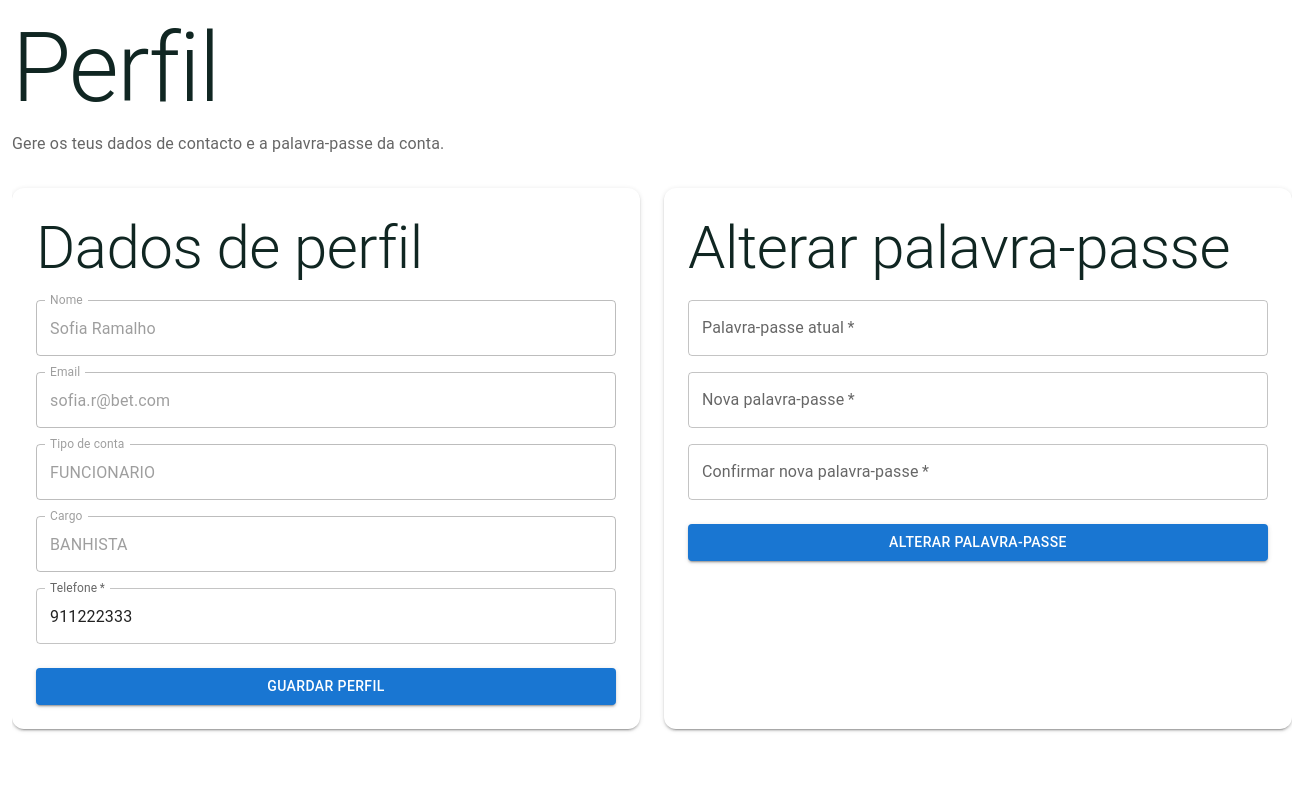
Test: Perfil page › mostra erro ao alterar password com password atual errada
This screenshot has width=1292, height=812.
Expected: the field showing "Sofia Ramalho" is shown, [36,300,616,356]
Type "errada" into the password field labelled "Palavra-passe atual *".
click(978, 328); type("errada")  # box [688,300,1268,356]
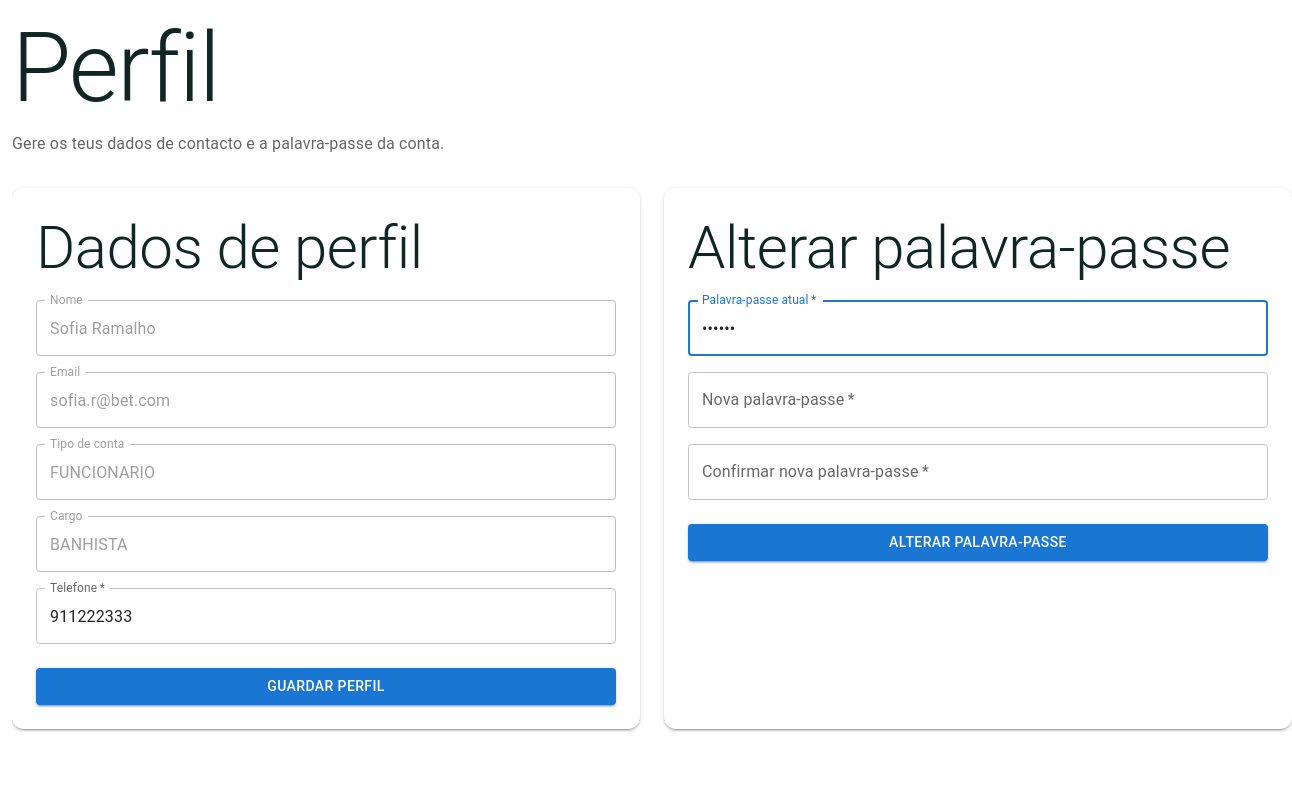
Type "NovaPassword123" into the password field labelled "Nova palavra-passe *".
click(978, 400); type("NovaPassword123")  # box [688,372,1268,428]
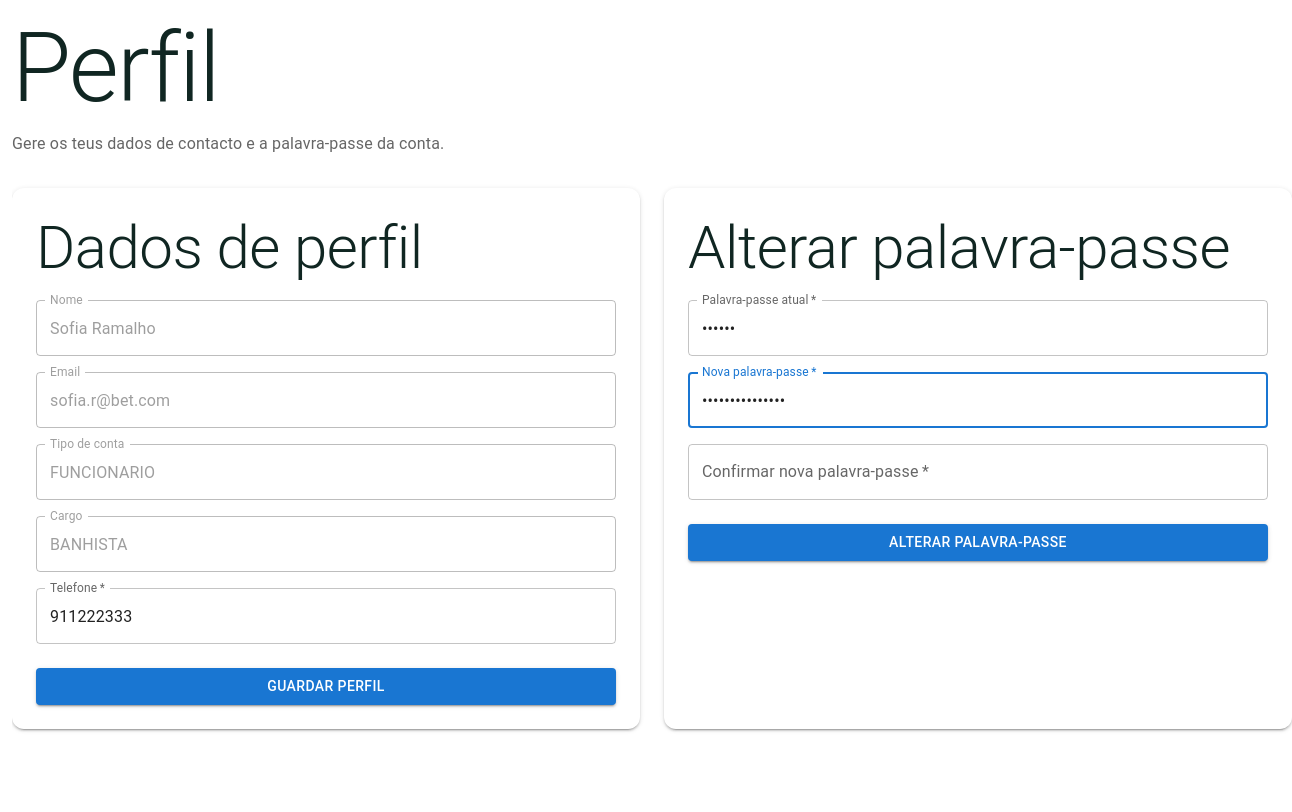
Type "NovaPassword123" into the password field labelled "Confirmar nova palavra-passe *".
click(978, 472); type("NovaPassword123")  # box [688,444,1268,500]
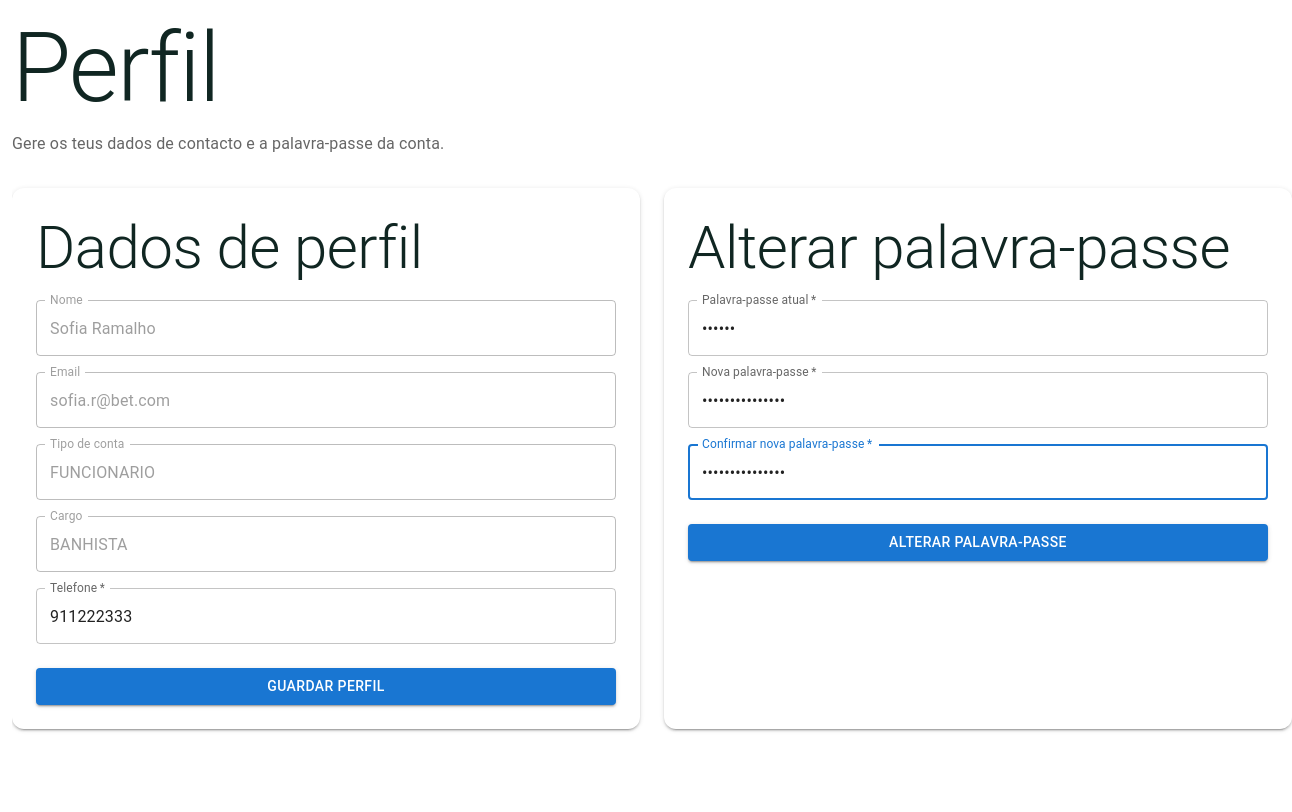
Click the button "Alterar palavra-passe".
click(978, 542)  # box [688,524,1268,560]
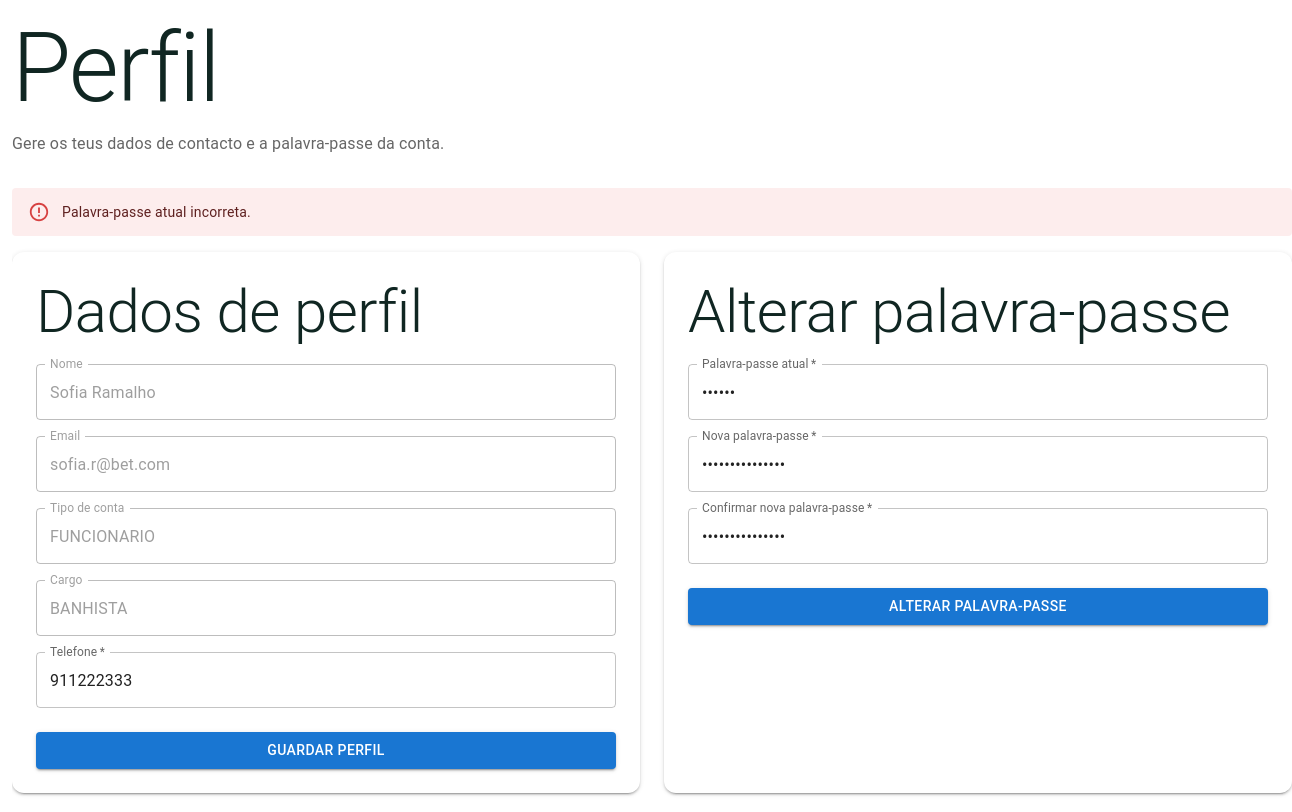
Expected: the text "Palavra-passe atual incorreta." is shown, [62,204,251,220]
